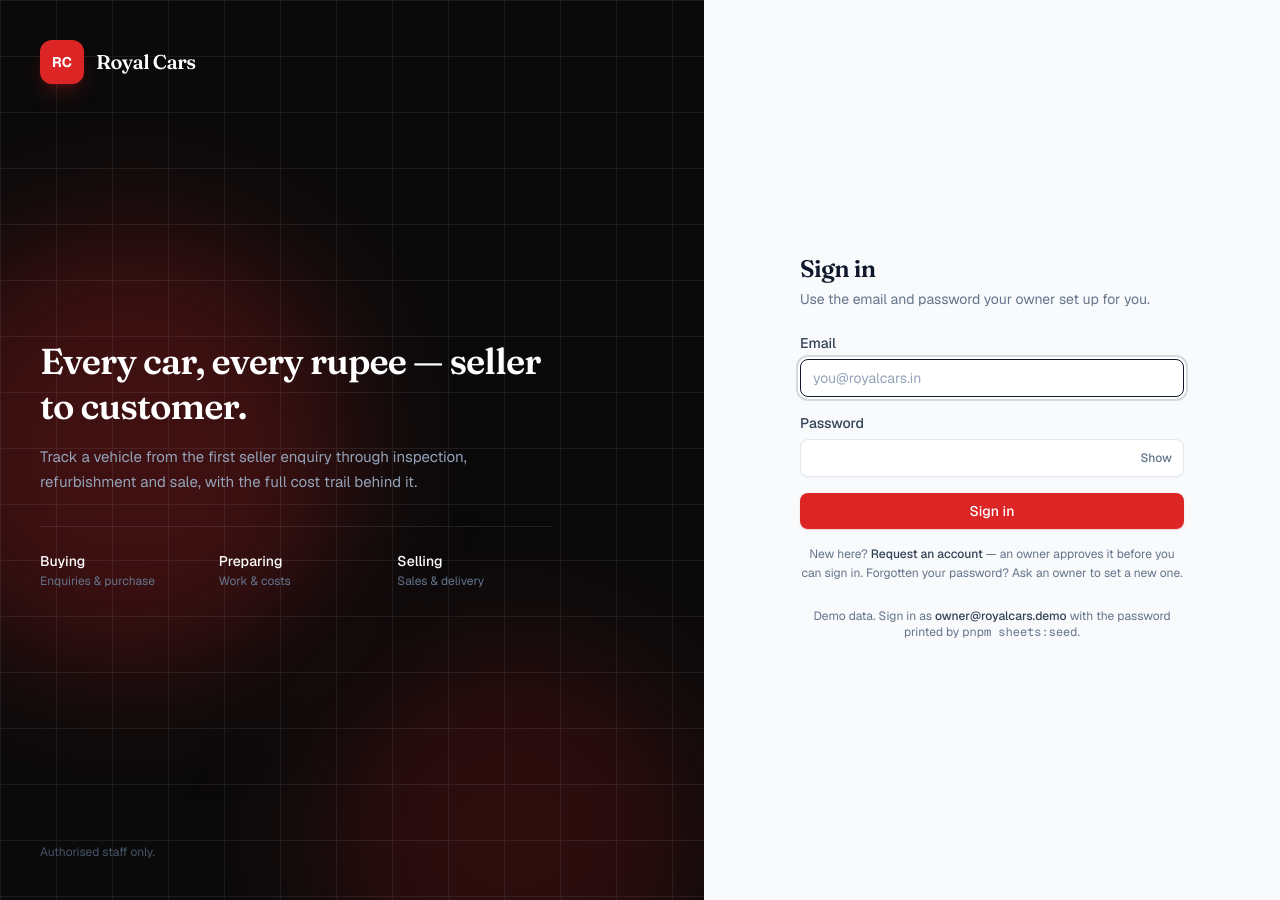
it: Authentication › rejects a wrong password without revealing whether the email exists
Type "owner@royalcars.demo" into the field labelled "Email" at (992, 378), box [800,359,1184,397]
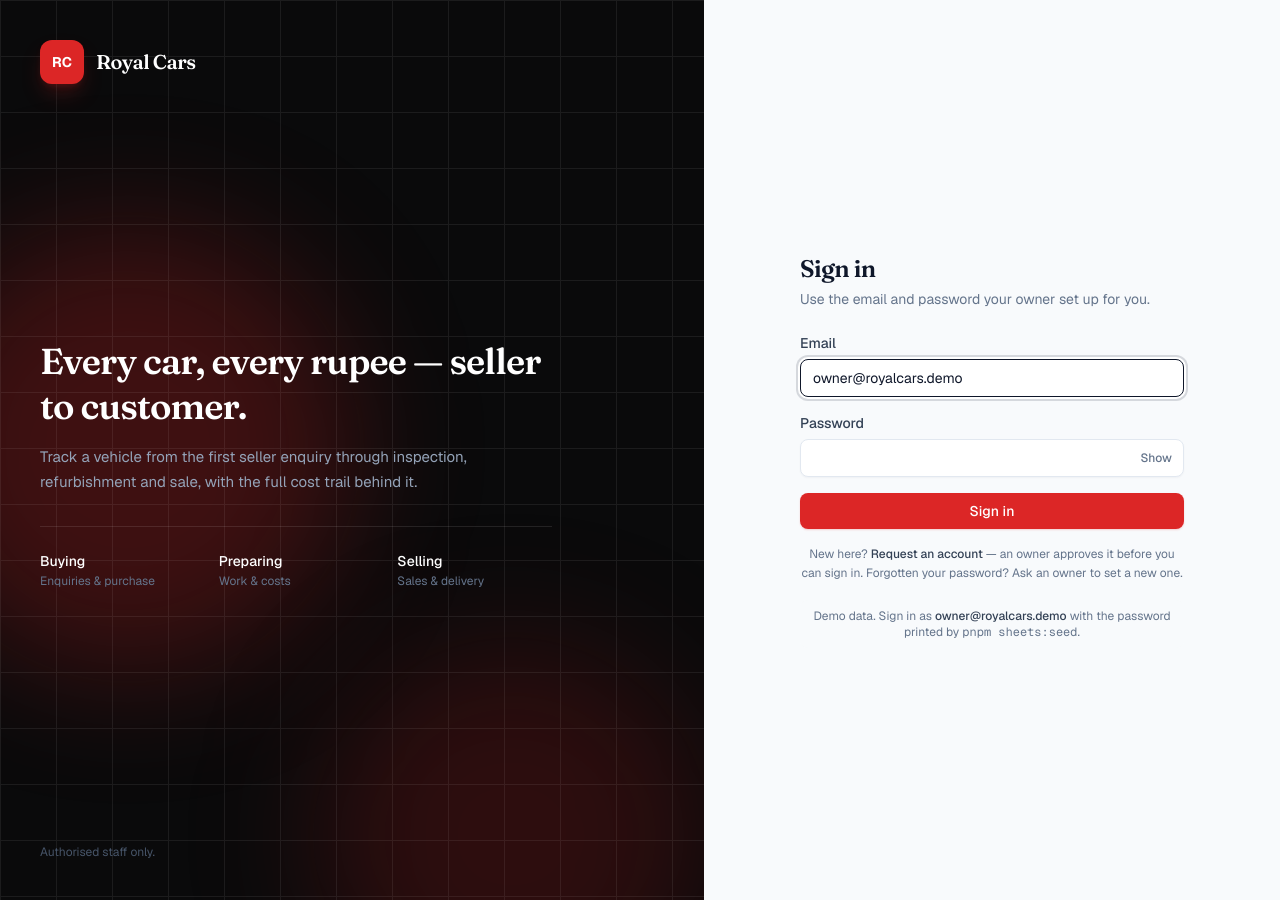
Type "definitely-not-the-password" into the password field at (992, 458), box [800,439,1184,477]
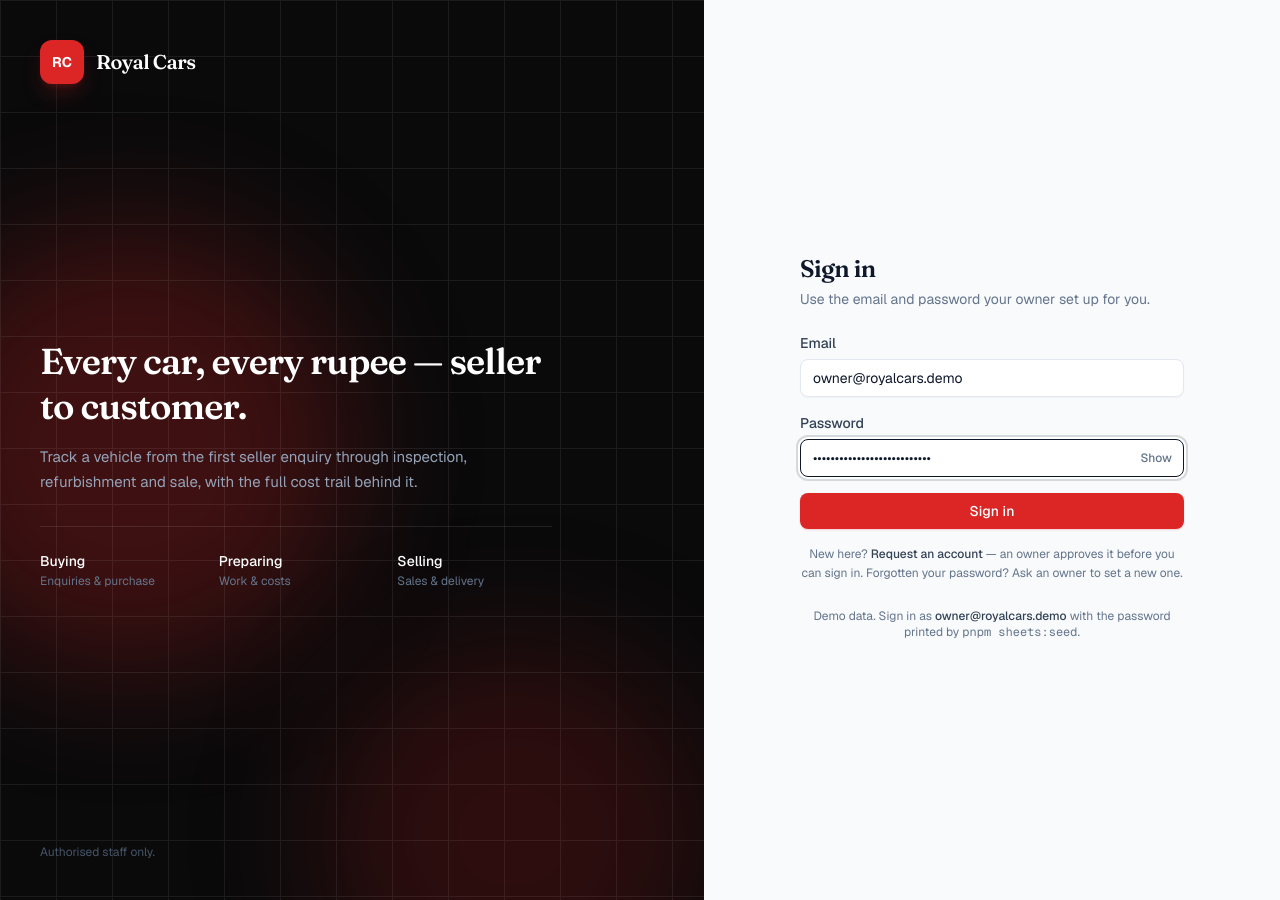
Click the submit button at (992, 511), box [800,493,1184,529]
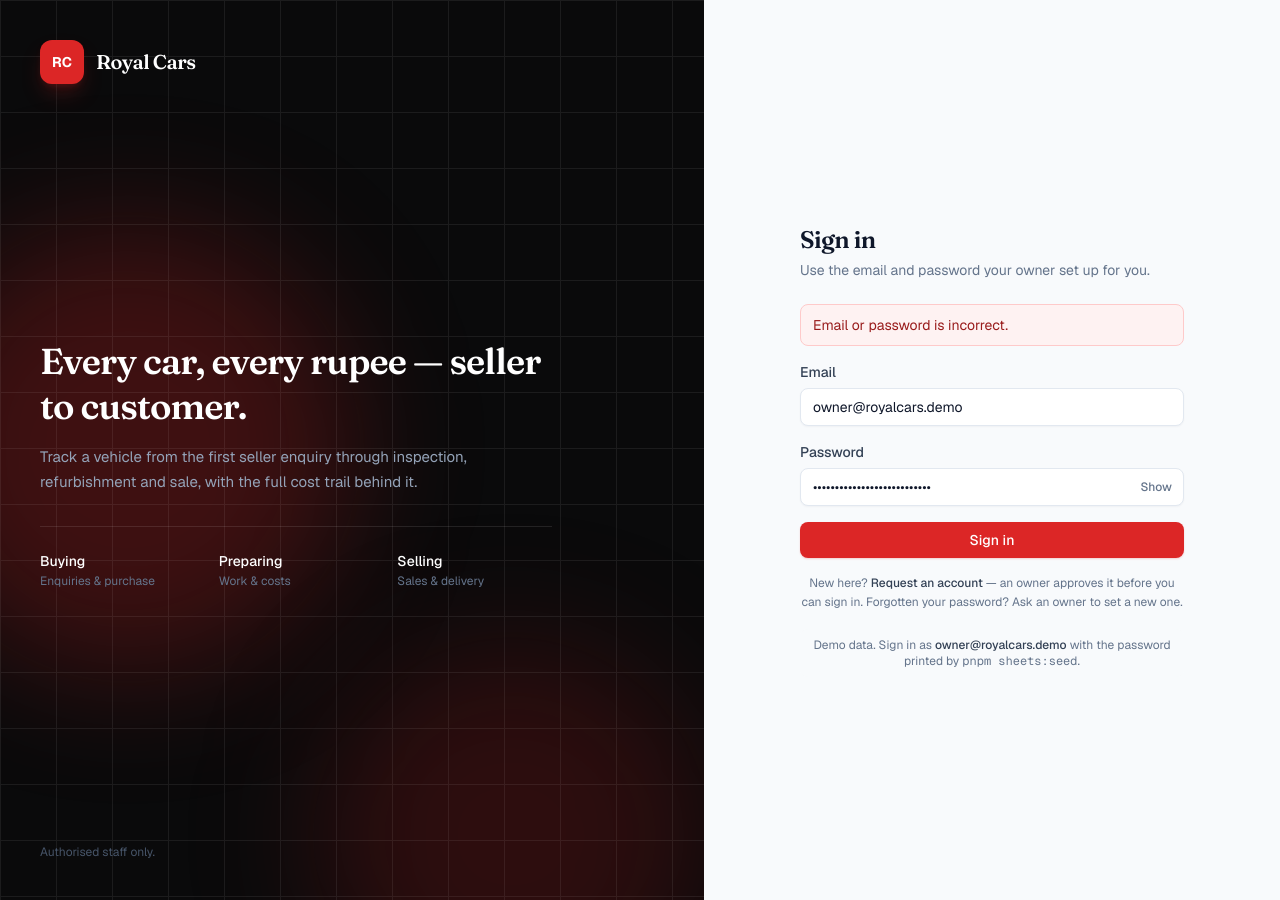
Check: the text "Email or password is incorrect." is shown, box [800,304,1184,346]
